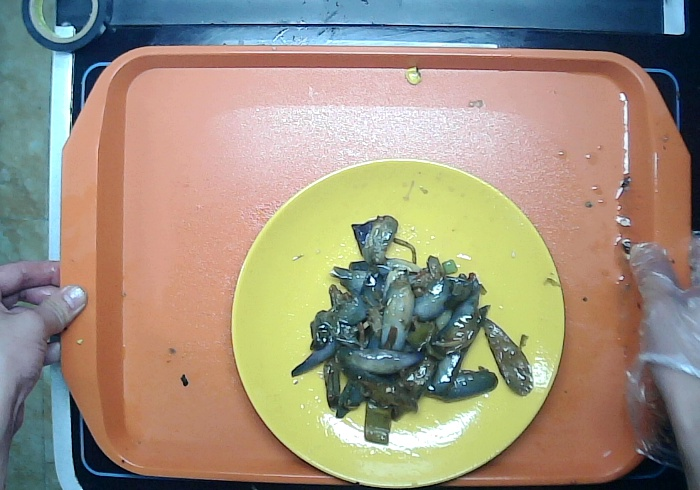HZYJPL-Huang_Se_Yuan_Pan: (216, 131, 584, 490)
